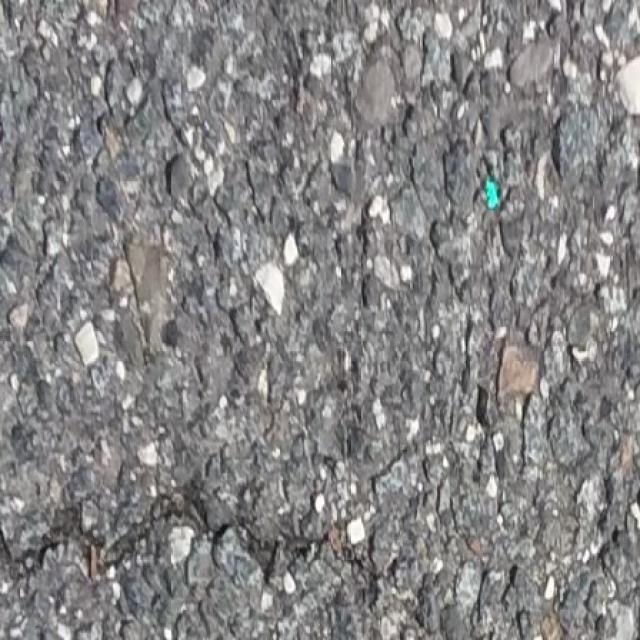Horizontal Crack: (0, 489, 332, 593)
